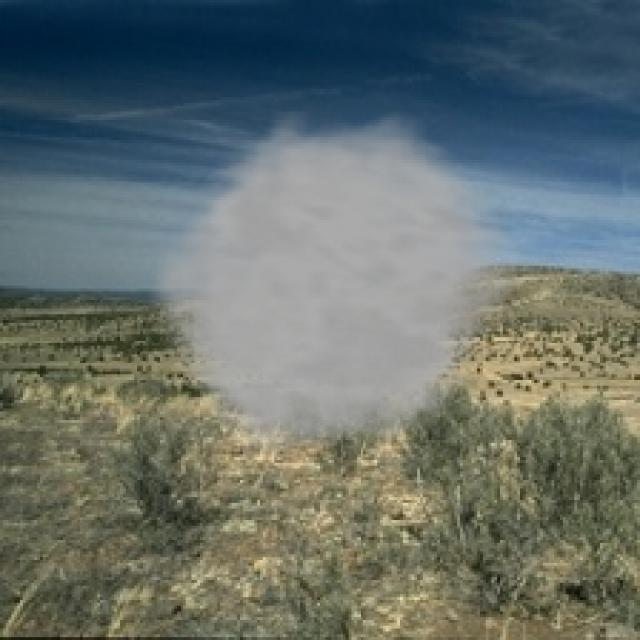smoke: (140, 111, 531, 468)
